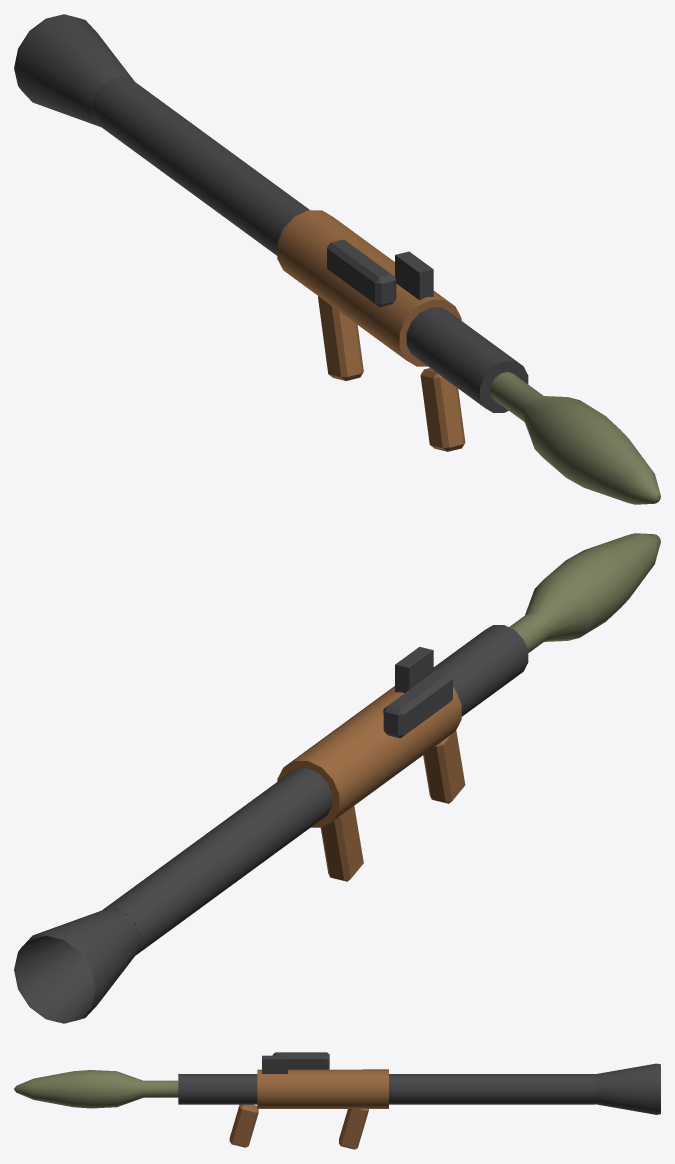
The model's file is rpg.glb.
The picture shows the model from 3 angles, top to bottom: view 1: azimuth 30°, elevation 25°; view 2: azimuth 150°, elevation 25°; view 3: azimuth 270°, elevation 25°; orthographic projection. The views are drawn at different scales.
Parts seen in each view (by area): view 1: rpg_mesh; view 2: rpg_mesh; view 3: rpg_mesh.
Part boxes in pixels (box(x1,y1,x2,y2)): rpg_mesh: box(14, 14, 660, 504); rpg_mesh: box(14, 533, 660, 1023); rpg_mesh: box(14, 1052, 660, 1149).
Bounding box in the file's own units: 0.12 × 0.2274 × 1.48.
